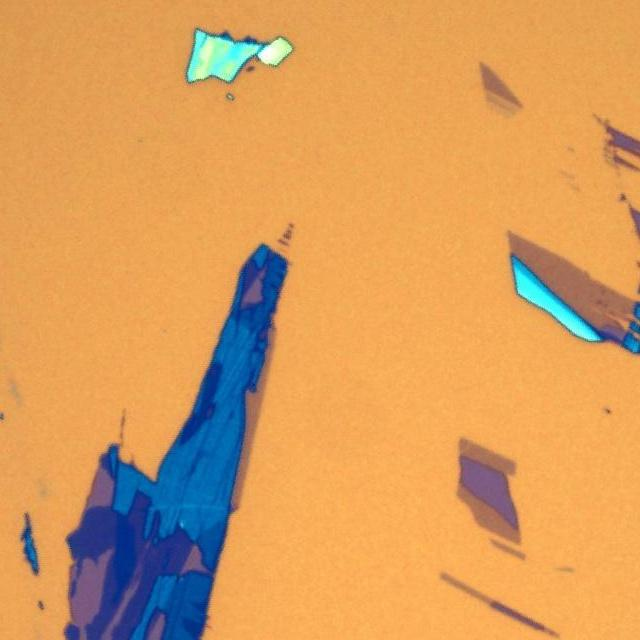monolayer-eWW4: (504, 226, 635, 332), (235, 322, 275, 508), (456, 481, 522, 543), (474, 54, 525, 109), (456, 434, 516, 474)
